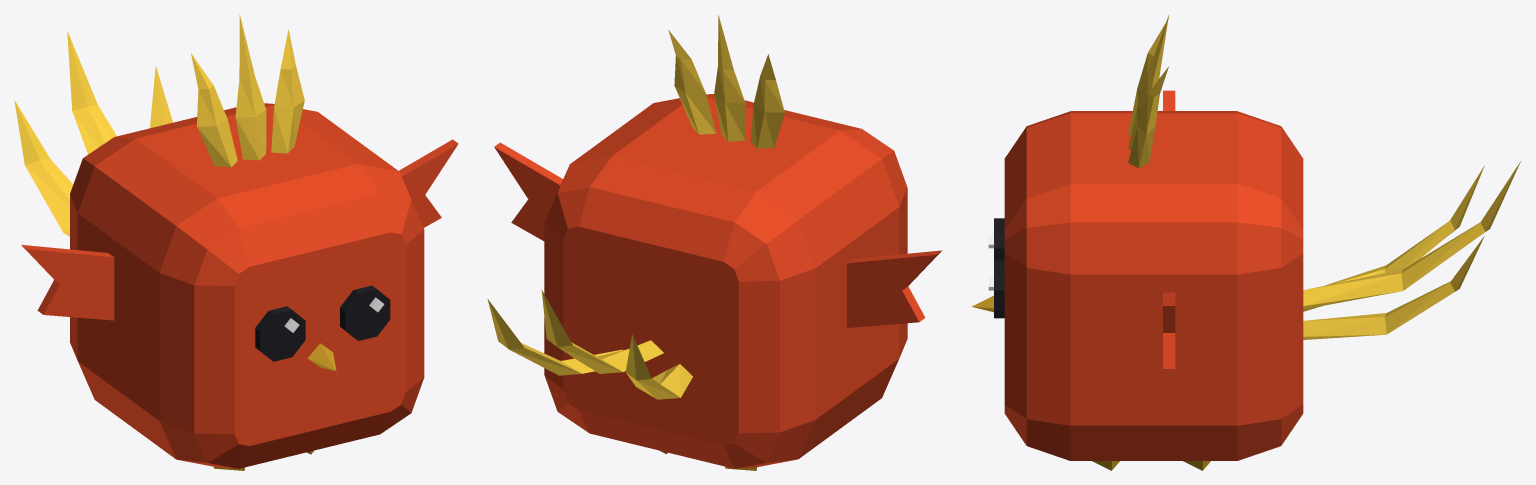
File: phoenix-pet.glb
3 views of the same model, side by side, from view 1: azimuth 30°, elevation 25°; view 2: azimuth 150°, elevation 25°; view 3: azimuth 270°, elevation 25° (orthographic). The views are drawn at different scales.
Visible parts, largest first — view 1: Body, Glow, Eyes, Nose; view 2: Body, Glow; view 3: Body, Glow, Eyes.
Boxes of the visible parts, bbox=[...] form: Body: bbox=[21, 103, 458, 468]; Glow: bbox=[14, 14, 304, 236]; Eyes: bbox=[255, 285, 390, 361]; Nose: bbox=[214, 343, 336, 470]; Body: bbox=[494, 94, 941, 468]; Glow: bbox=[487, 15, 784, 399]; Body: bbox=[1004, 90, 1303, 460]; Glow: bbox=[1128, 15, 1521, 339]; Eyes: bbox=[994, 218, 1004, 318].
Bounding box in the file's own units: 3.36 × 3.13 × 3.63.
